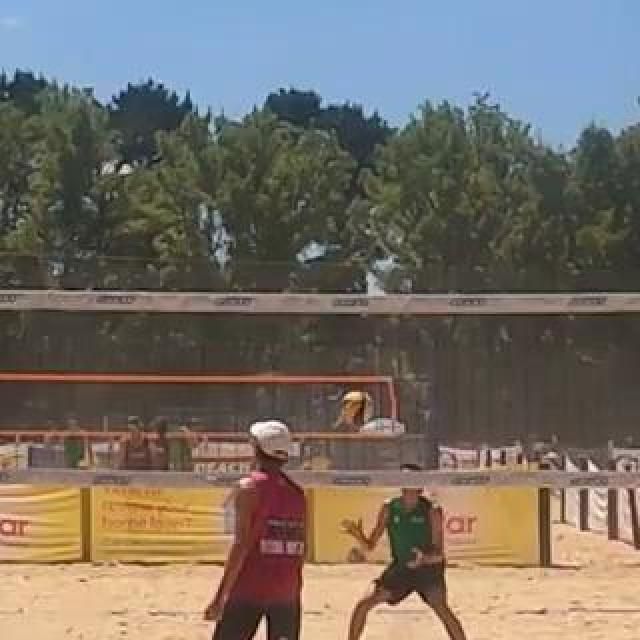volleyball: (341, 390, 375, 424)
